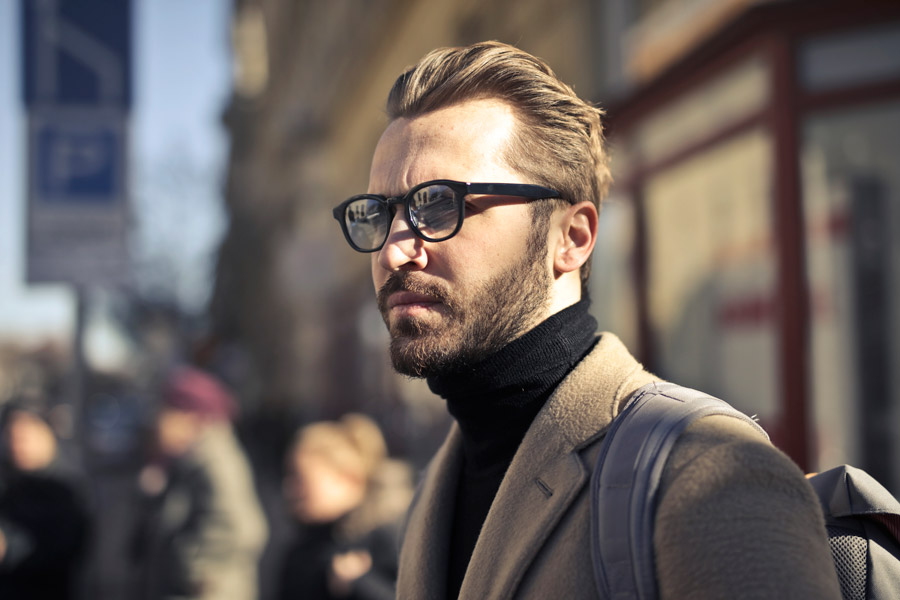male: (327, 37, 847, 600)
